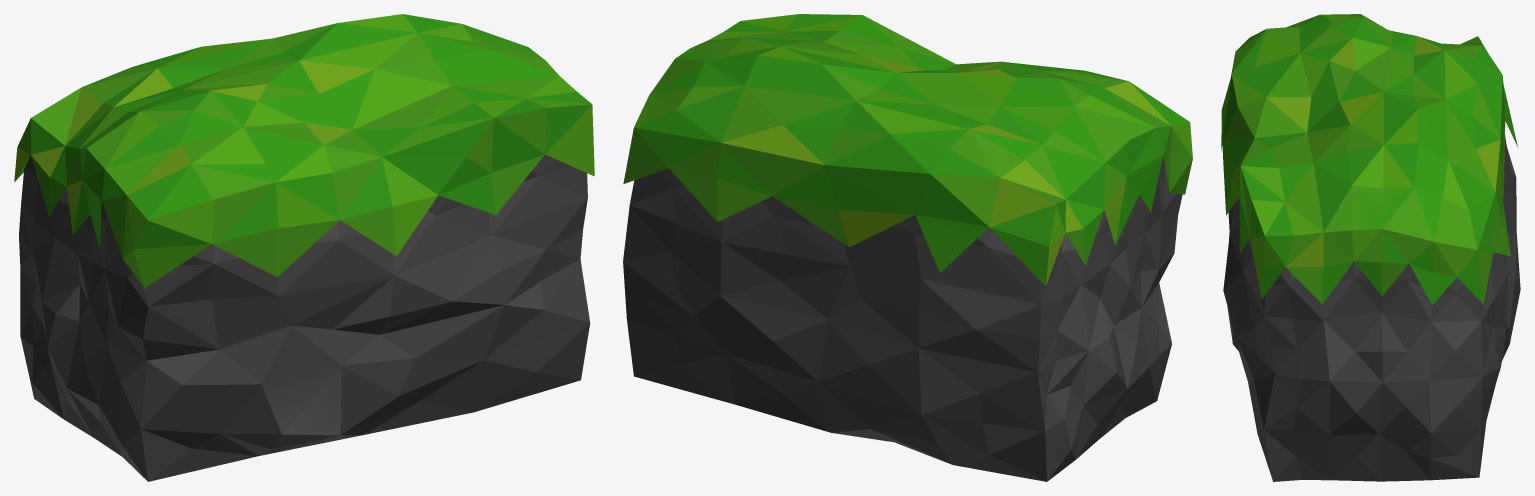
The model's file is cliff.glb.
3 renders of one model, left to right at view 1: azimuth 30°, elevation 25°; view 2: azimuth 150°, elevation 25°; view 3: azimuth 270°, elevation 25°, orthographic. The views are drawn at different scales.
Visible parts, largest first — view 1: RIff, RIff.001; view 2: RIff, RIff.001; view 3: RIff.001, RIff.
Boxes of the visible parts, left/top/right/bottom form: RIff: left=19, top=154, right=590, bottom=481; RIff.001: left=14, top=14, right=594, bottom=288; RIff: left=623, top=156, right=1182, bottom=481; RIff.001: left=623, top=14, right=1192, bottom=286; RIff.001: left=1221, top=14, right=1517, bottom=304; RIff: left=1223, top=136, right=1520, bottom=481.
Bounding box in the file's own units: 15.09 × 10.07 × 8.94.
2 materials, 2 textured.
